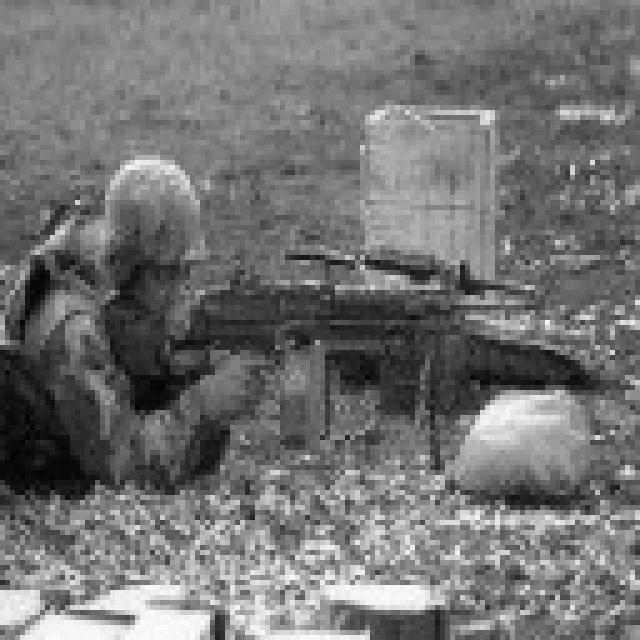Rifle: (150, 208, 566, 498)
